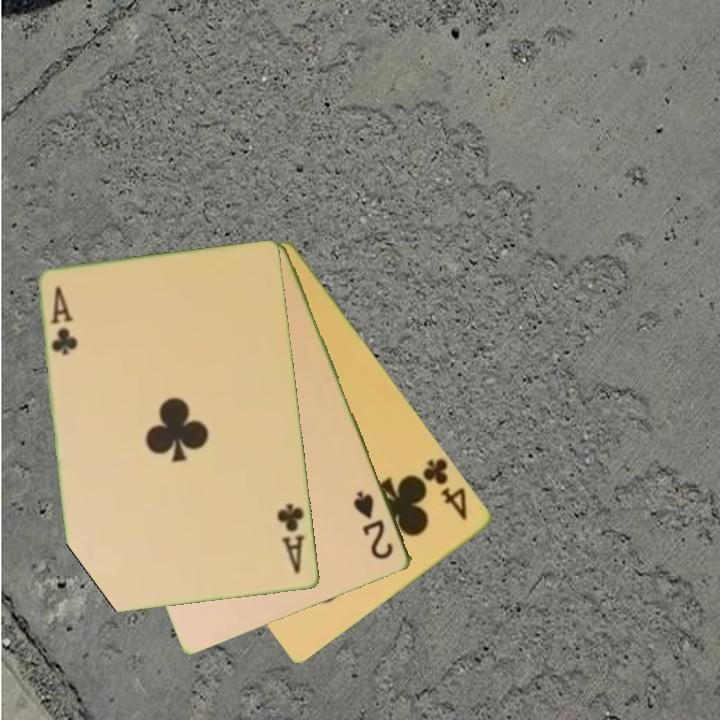2s: (350, 487, 397, 563)
4c: (416, 454, 471, 524)
Ac: (273, 500, 309, 577), (47, 283, 81, 359)
